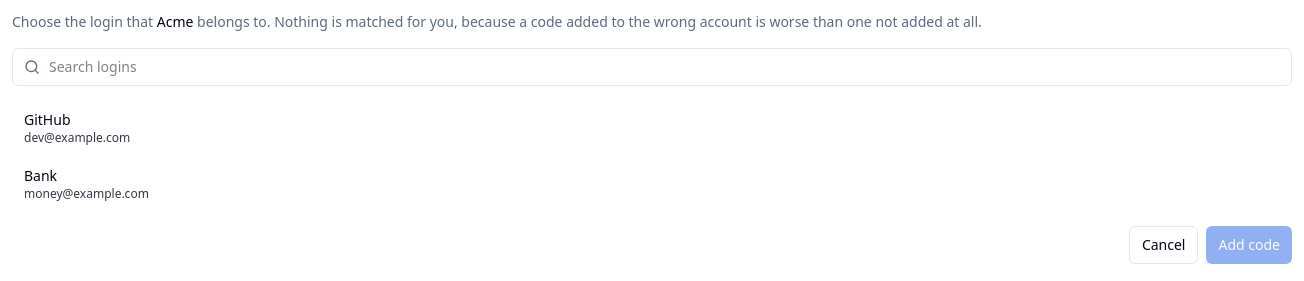
Test case: the login picker › filters by name and by username
The image size is (1304, 281).
Type "money" into the field with placeholder "Search logins" at (652, 67), box [12,48,1292,86]
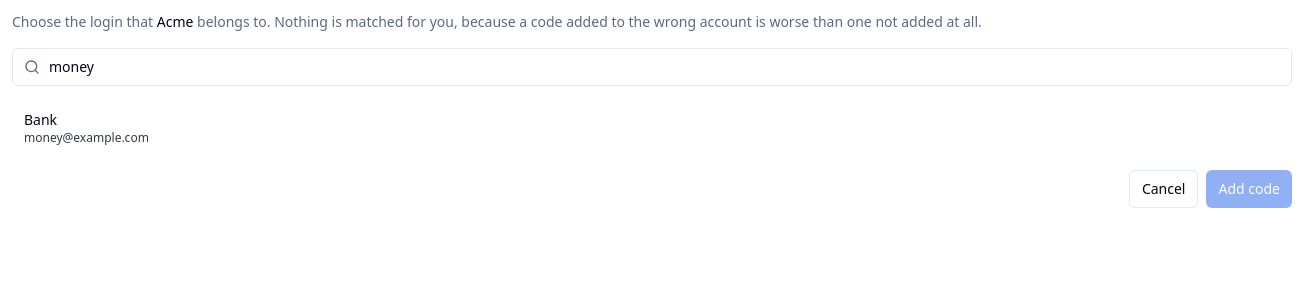
Check: the text "Bank" is shown, box [24,110,57,129]
Check: the number of options is 1, box [12,102,1292,154]
